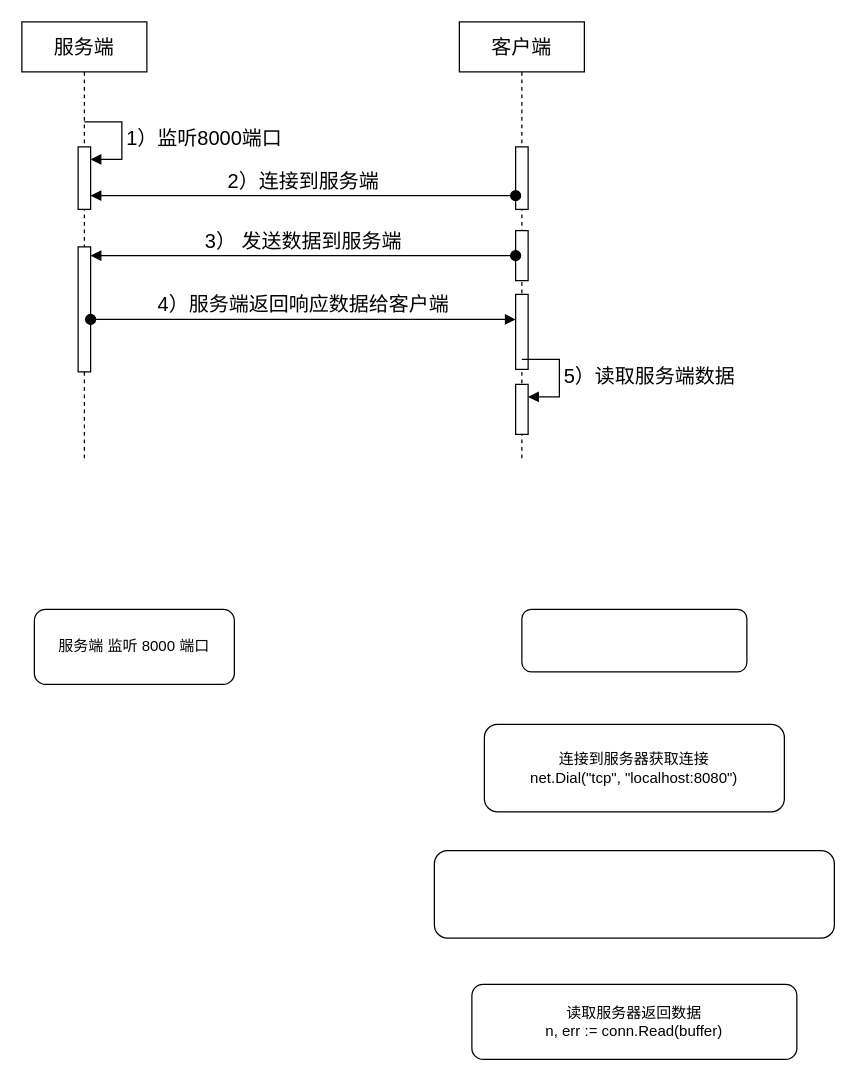
The diagram is 856 pixels wide and 1081 high, and some of its shapes have lost their labels. The centre of each missing label's shape, as x and y in pixels:
向服务器发送数据 _, err = conn.Write([]byte("你好，服务器！")): [633,893]
启动: [634,640]
